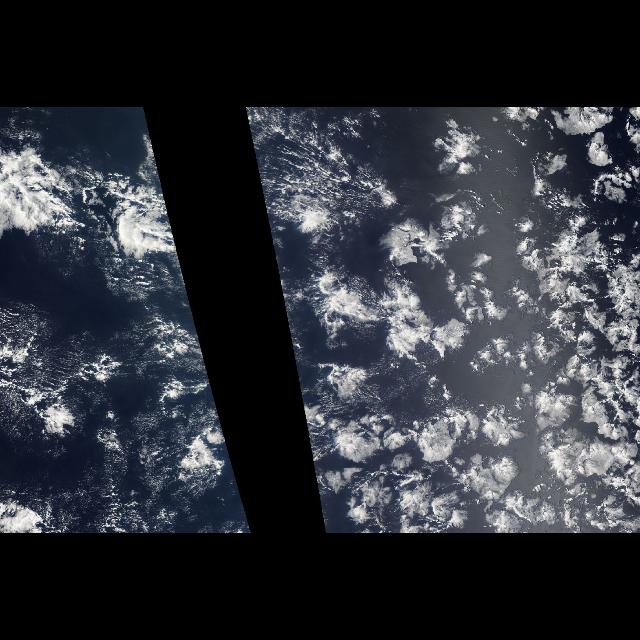Flower: (321, 220, 553, 528)
